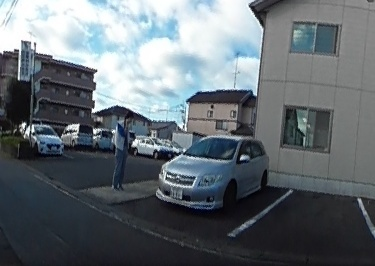person: (112, 110, 133, 191)
